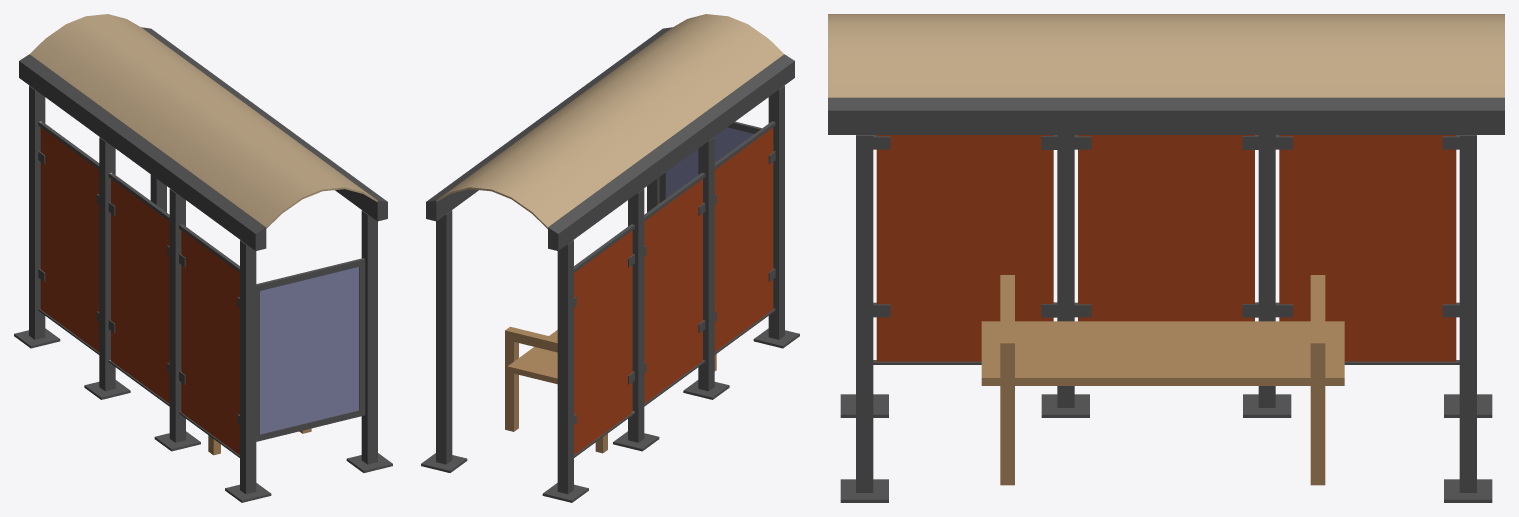
File: BusStop.fbx
3 renders of one model, left to right at view 1: azimuth 30°, elevation 25°; view 2: azimuth 150°, elevation 25°; view 3: azimuth 270°, elevation 25°, orthographic. The views are drawn at different scales.
Visible parts, largest first — view 1: pasted__pCube7; view 2: pasted__pCube7; view 3: pasted__pCube7.
Boxes of the visible parts, x1,y1,x2,y2 form: pasted__pCube7: [14, 14, 392, 502]; pasted__pCube7: [421, 14, 799, 502]; pasted__pCube7: [828, 14, 1504, 502].
Size of the model in its own units: 4.05 by 7.63 by 10.98.
